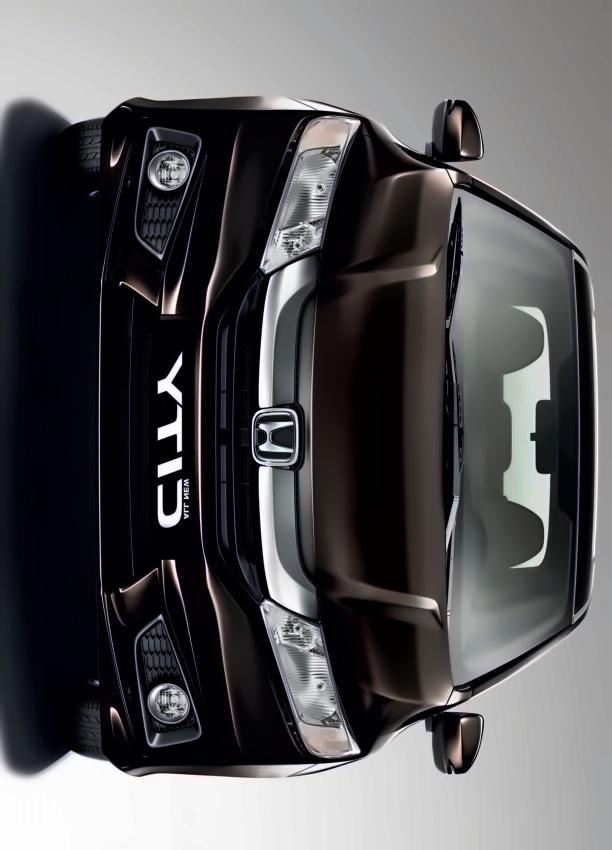Car hood: (305, 109, 458, 761)
Front bumper: (87, 85, 276, 802)
Headlight - -L-: (247, 582, 371, 778)
Headlight - -R-: (254, 95, 365, 284)
Side mirror - -L-: (417, 690, 489, 784)
Side mirror - -R-: (422, 77, 503, 177)
